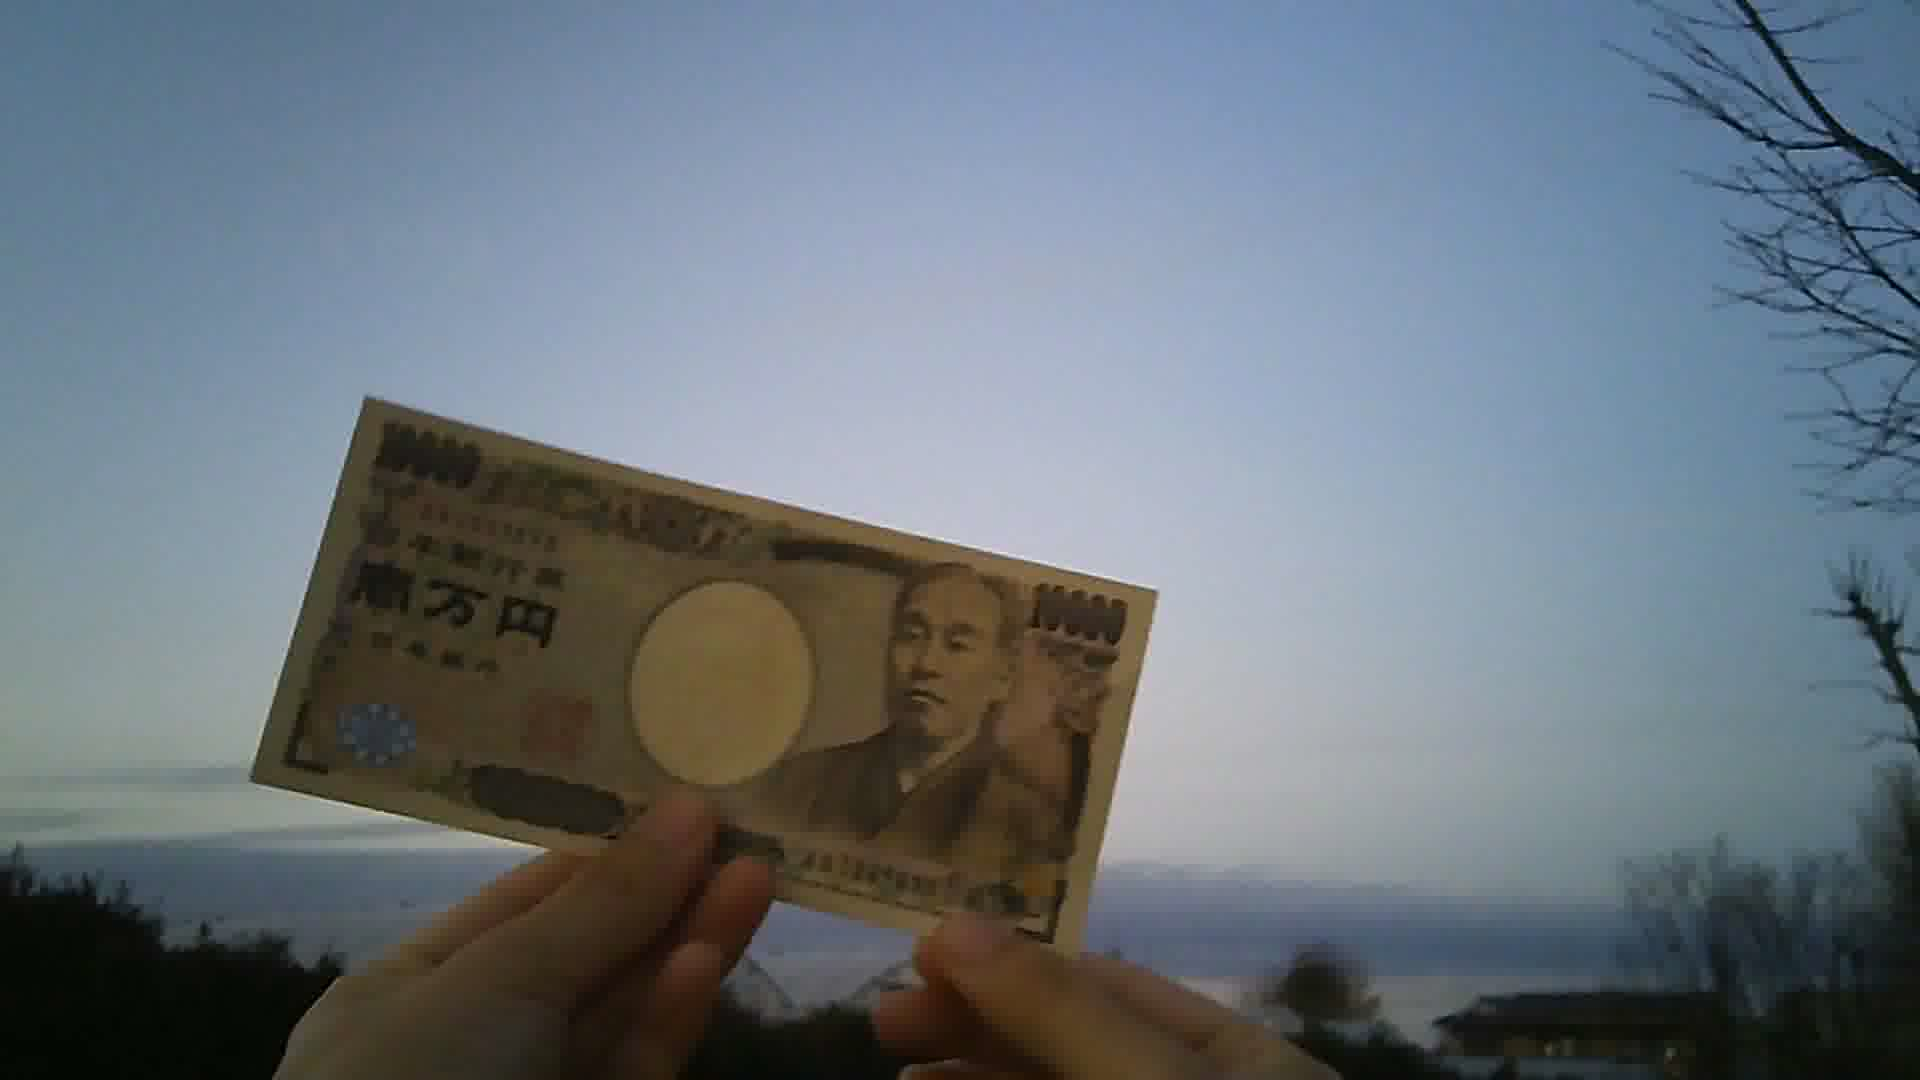10,000 Yen: (219, 388, 1160, 973)
